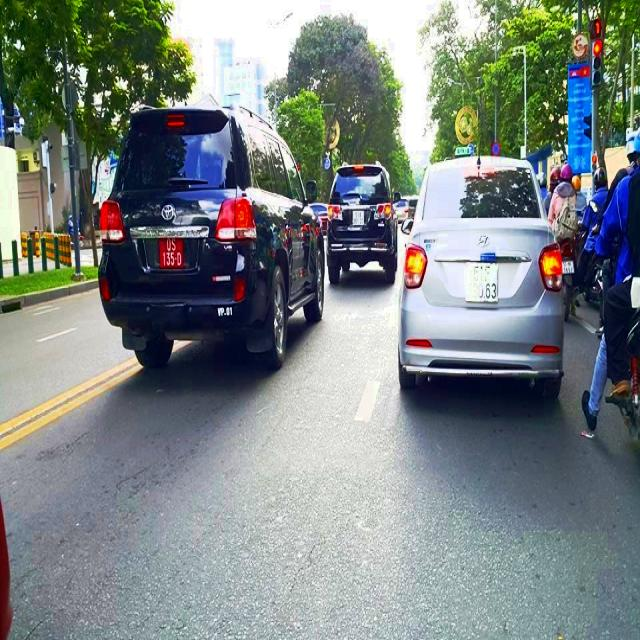license_plate: (157, 236, 186, 269)
